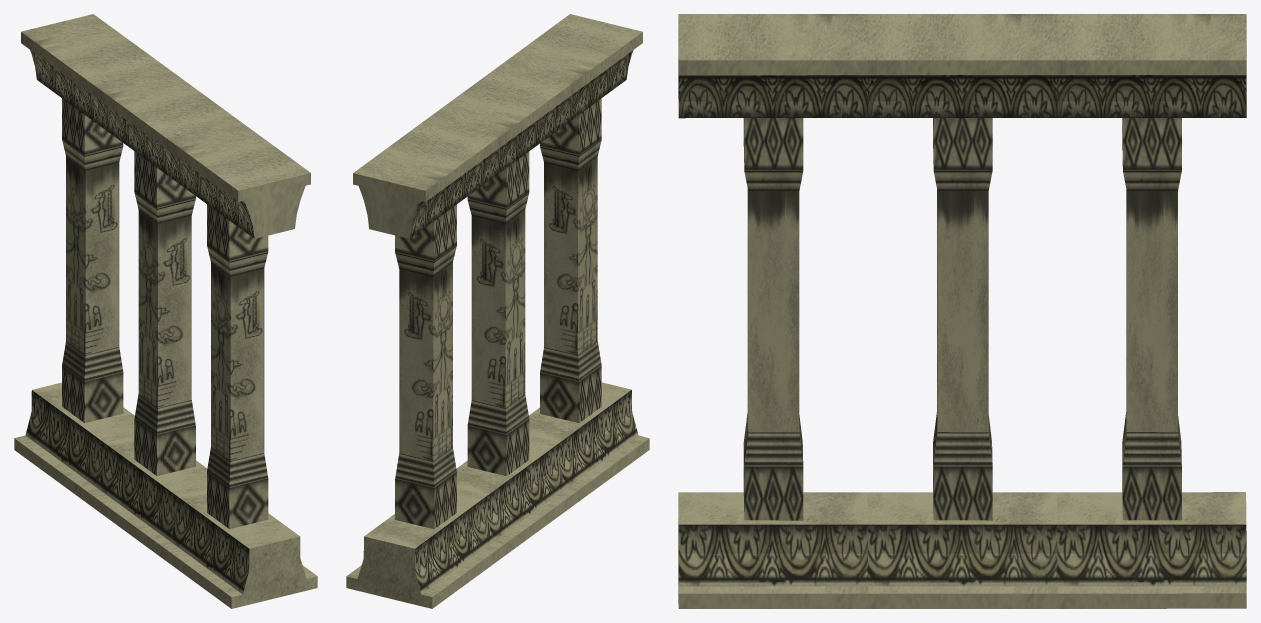
The model's file is StoneFence3.FBX.
3 views of the same model, side by side, from view 1: azimuth 30°, elevation 25°; view 2: azimuth 150°, elevation 25°; view 3: azimuth 270°, elevation 25° (orthographic). The views are drawn at different scales.
Parts seen in each view (by area): view 1: Railing017; view 2: Railing017; view 3: Railing017.
Boxes of the visible parts, x1,y1,x2,y2 form: Railing017: (14, 14, 317, 608); Railing017: (346, 14, 649, 608); Railing017: (678, 14, 1246, 608).
Bounding box in the file's own units: 8.42 × 38.86 × 36.77.
